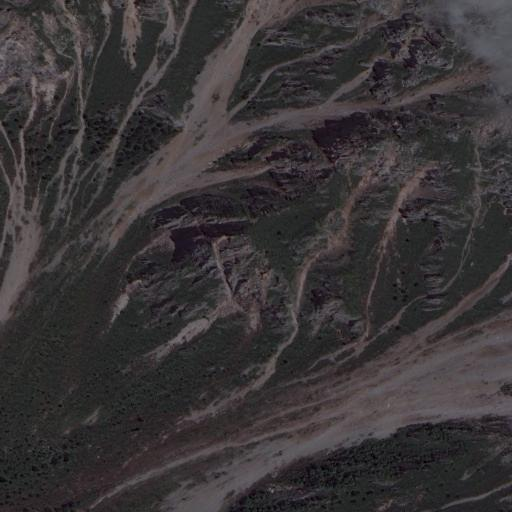landslide: (79, 5, 491, 253), (118, 271, 510, 507)
